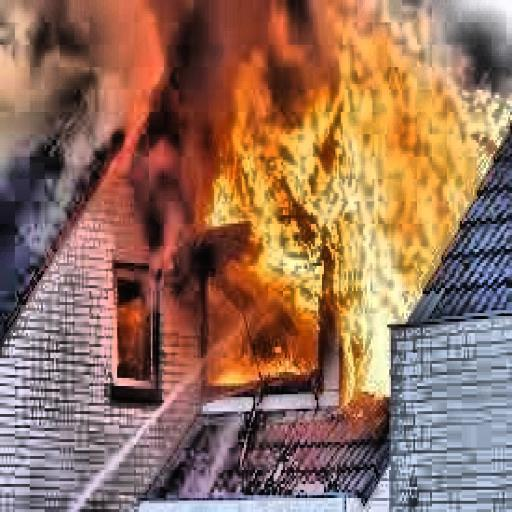fire: (138, 22, 469, 384)
